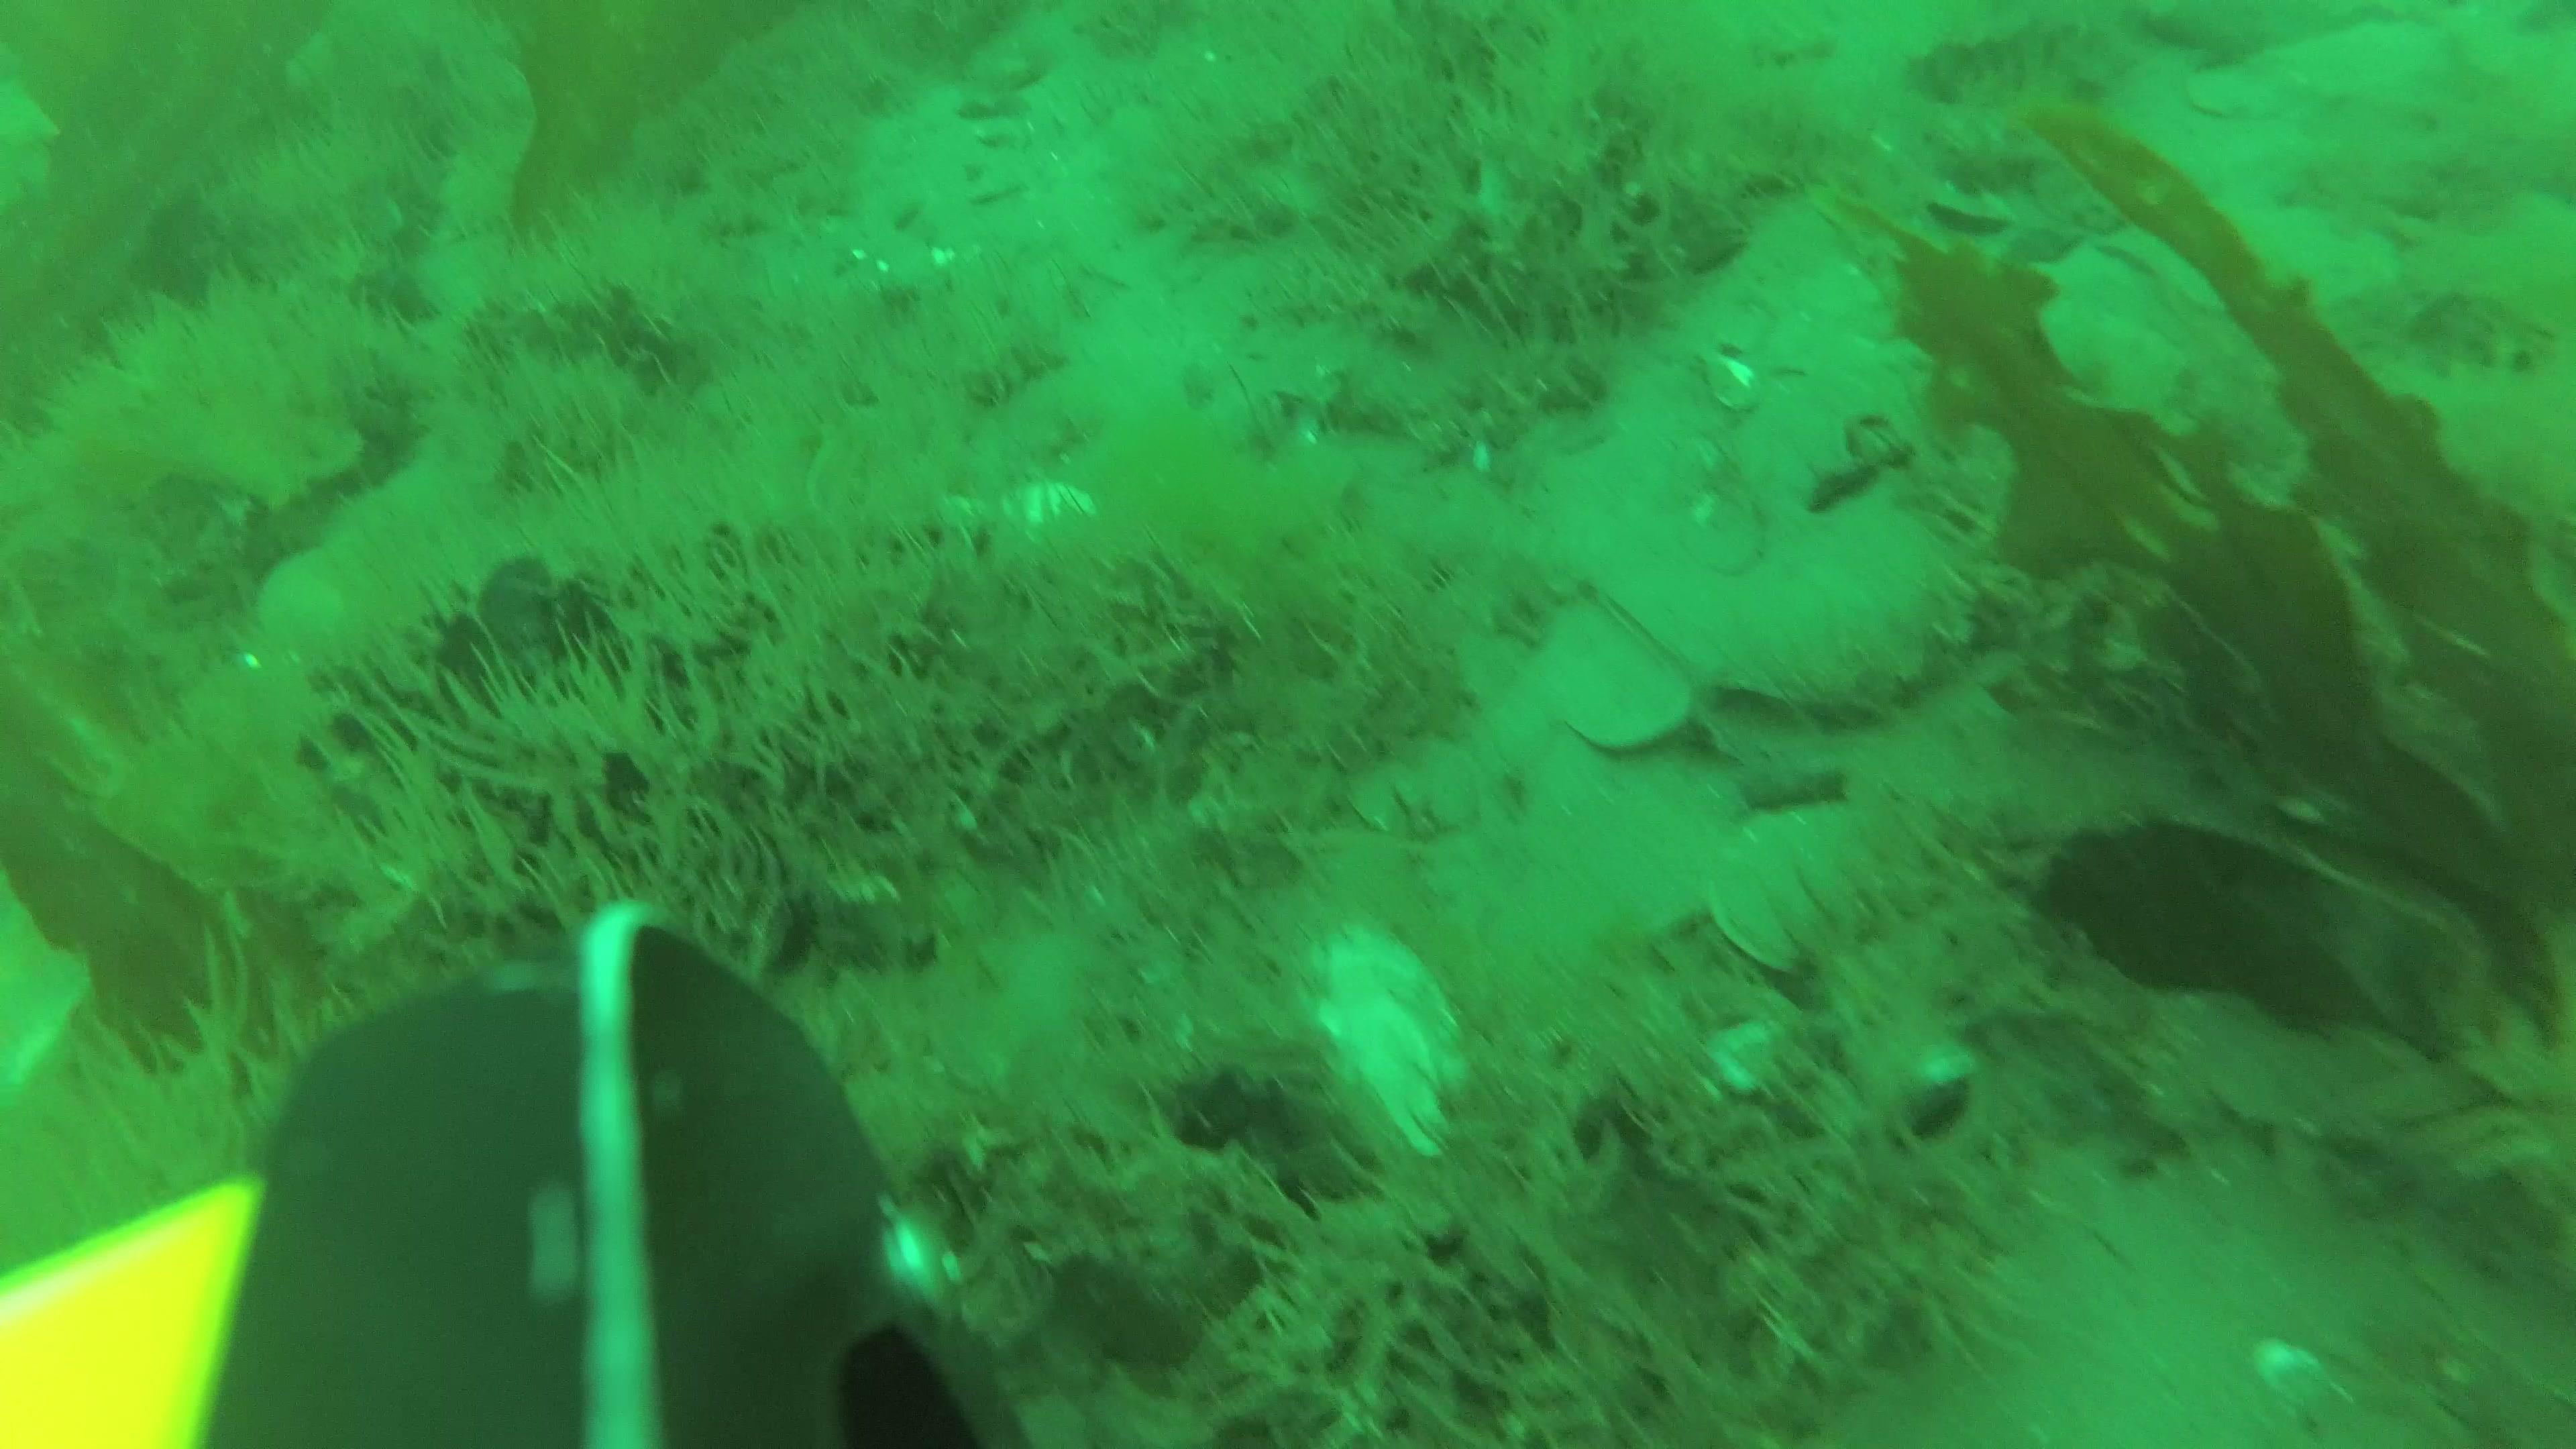scallop: (1307, 932, 1463, 1169), (1698, 810, 1909, 962), (258, 556, 403, 655), (1005, 483, 1104, 543), (2190, 62, 2284, 117)
